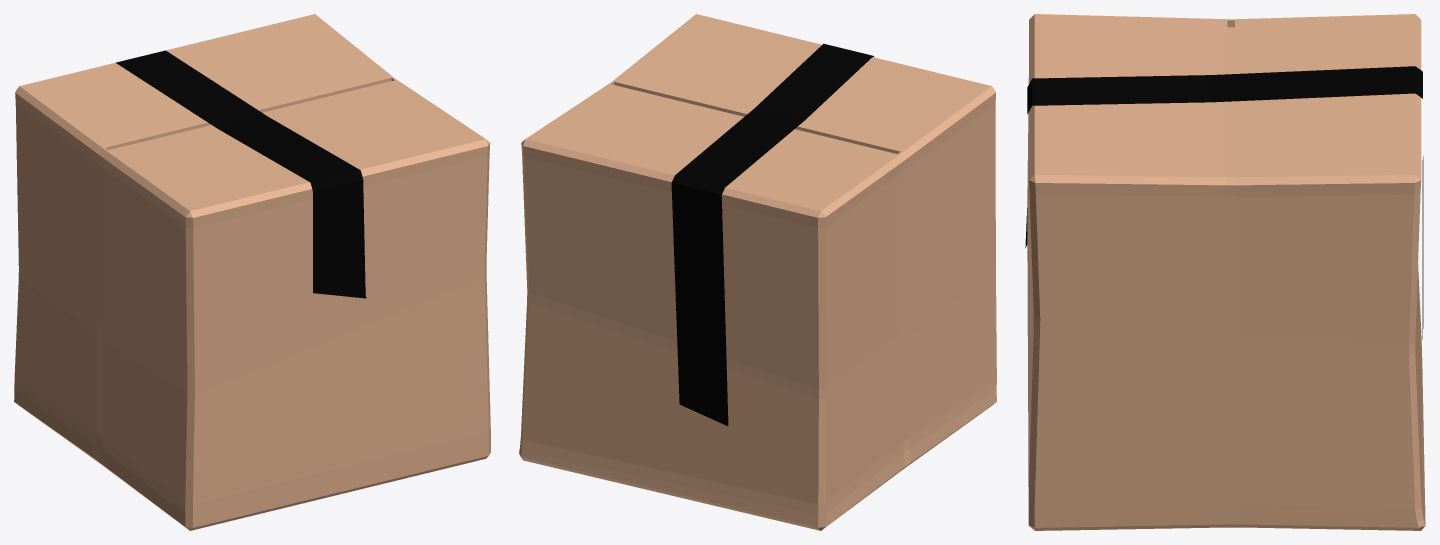
Rendered from package.fbx.
3 views of the same model, side by side, from view 1: azimuth 30°, elevation 25°; view 2: azimuth 150°, elevation 25°; view 3: azimuth 270°, elevation 25° (orthographic). The views are drawn at different scales.
Visible parts, largest first — view 1: Package, Plane; view 2: Package, Plane; view 3: Package, Plane.
Boxes of the visible parts, x1,y1,x2,y2 form: Package: (14, 14, 490, 530); Plane: (116, 50, 366, 298); Package: (519, 14, 996, 530); Plane: (671, 43, 873, 426); Package: (1027, 14, 1425, 530); Plane: (1025, 66, 1423, 339).
Bounding box in the file's own units: 0.3583 × 0.3585 × 0.3646.
